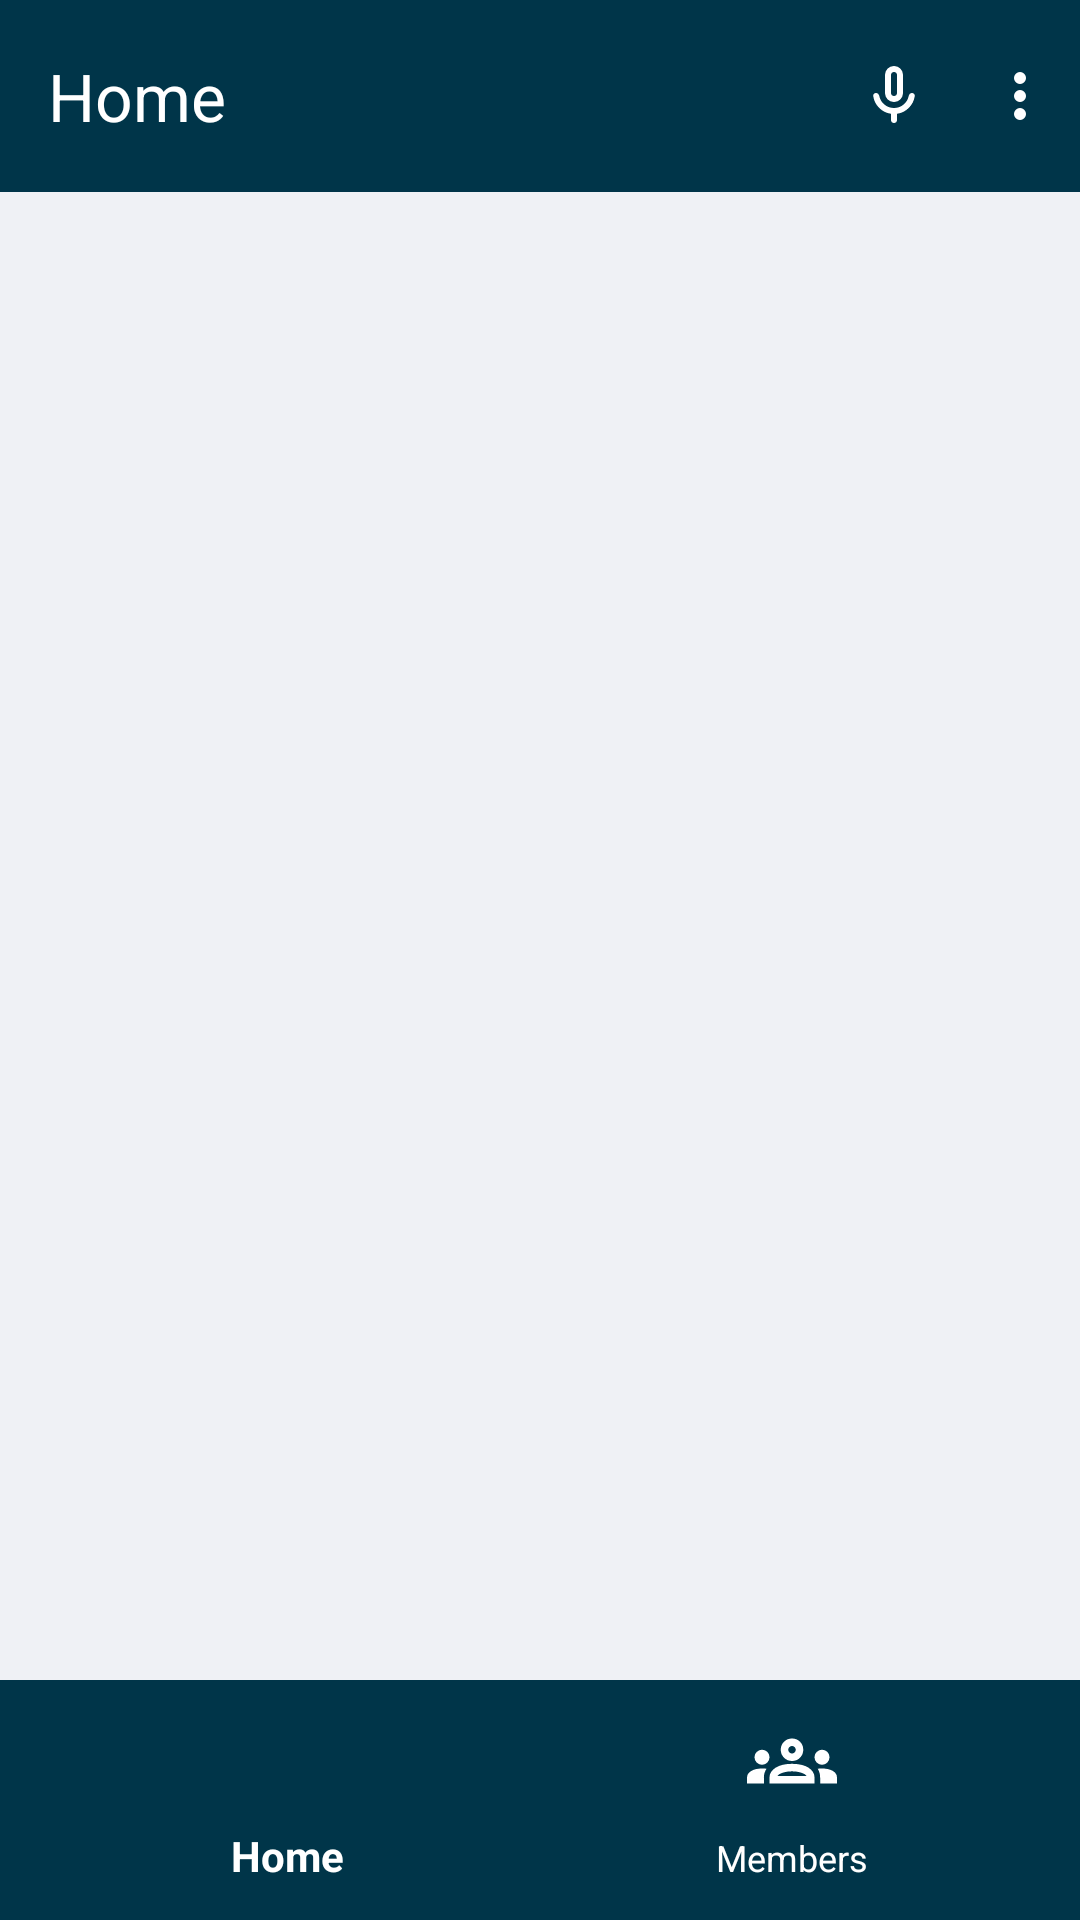

Where to tap for icons on this 1080 x 1920 app screen, as (x=x, y=y):
mic: (x=894, y=94)
More: (x=1020, y=96)
